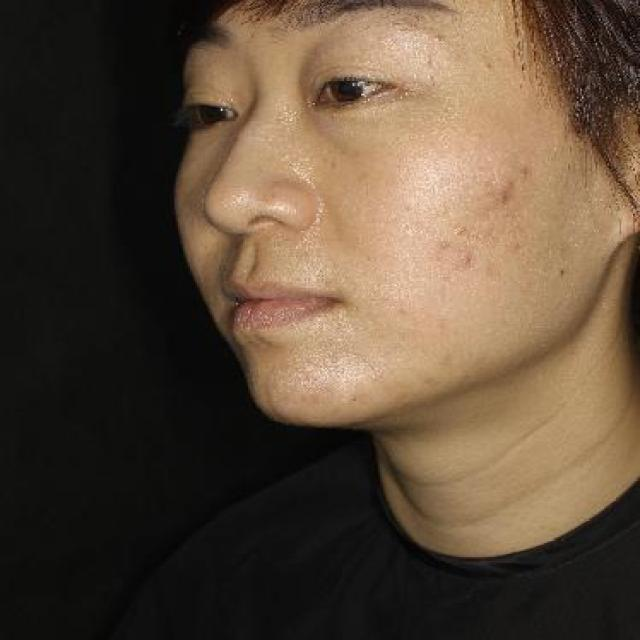Acne: (488, 178, 520, 210), (429, 237, 458, 257), (457, 252, 481, 272), (506, 238, 528, 257)
Dark-Spots: (450, 220, 477, 240)
Whiteheads: (422, 28, 452, 48), (481, 60, 498, 77)
